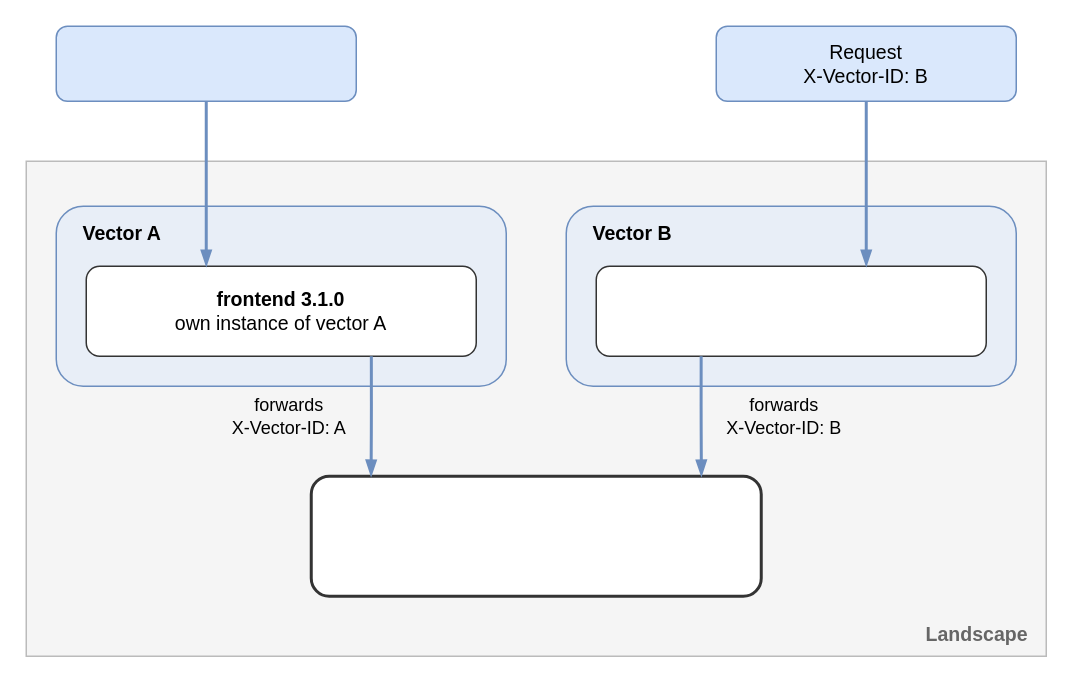
Some shapes in this 1073 by 683 pixel diagram are drawn without their labels. The centre of each missing label's shape, as x and y in pixels:
"catalog 1.0.0 one shared instance (allowReuse: true) answers both vectors" belongs at pixel 535 535.
"frontend 3.2.0 own instance of vector B" belongs at pixel 790 310.
"Request X-Vector-ID: A" belongs at pixel 205 63.
